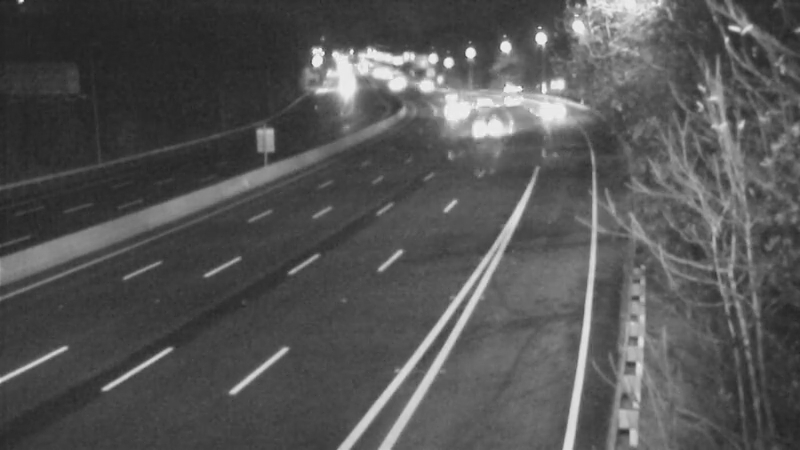vehicle: (404, 62, 454, 112), (364, 59, 414, 109), (483, 66, 533, 116), (461, 79, 511, 129), (524, 79, 574, 129), (427, 87, 477, 137), (465, 97, 515, 147)
